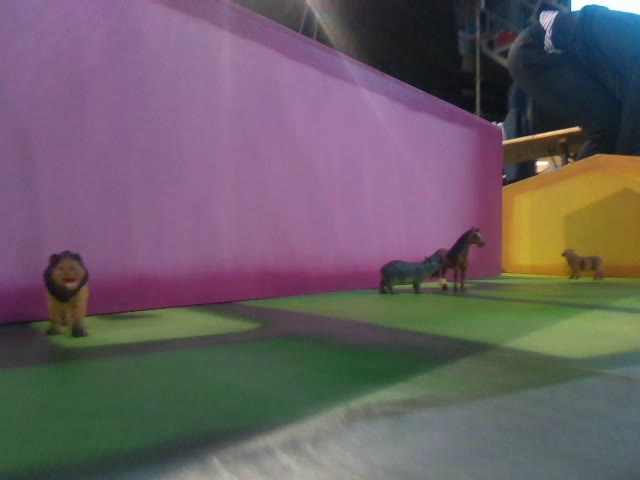toy: (43, 249, 90, 340), (379, 256, 443, 295), (560, 248, 607, 282)
